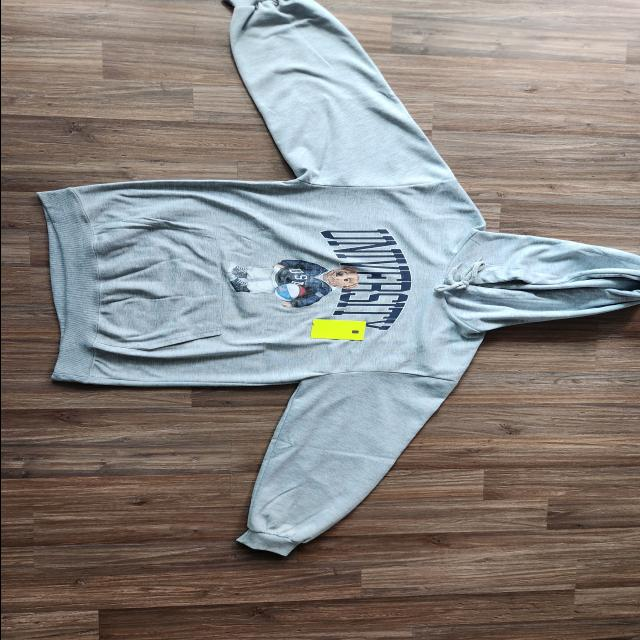card: (309, 319, 365, 340)
